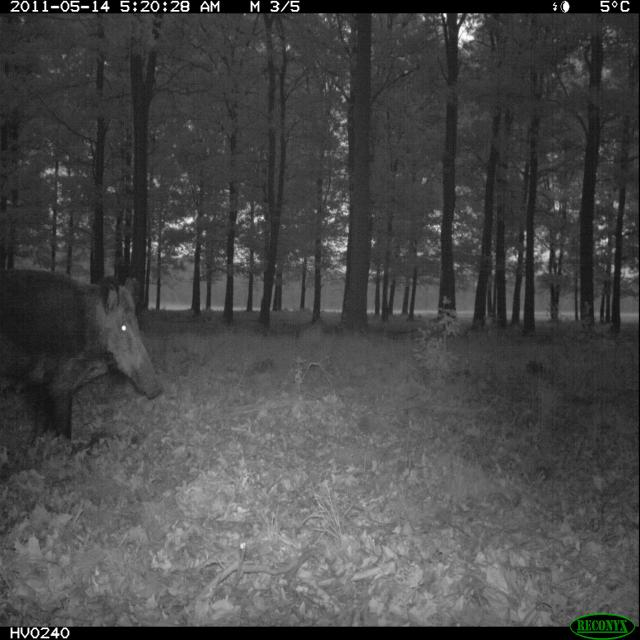boar: (0, 247, 183, 498)
